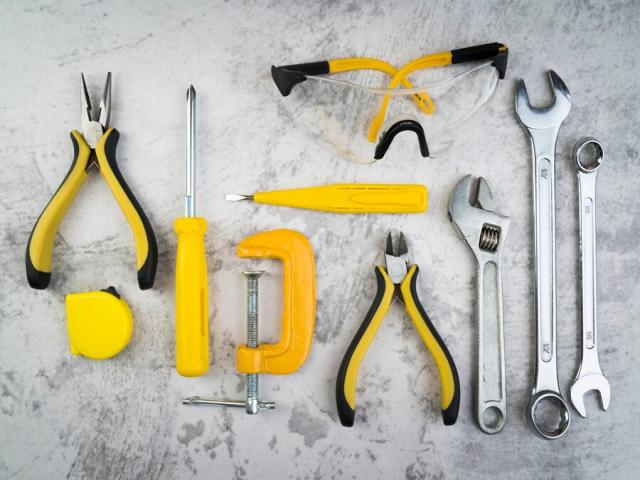Adjustable spanner: (449, 174, 510, 434)
Cutting pliers: (336, 233, 460, 427)
Needle-nose pliers: (25, 72, 158, 290)
Screwdriver: (174, 86, 209, 377), (226, 184, 428, 213)
Tape measure: (66, 287, 132, 359)
Wrench: (516, 70, 571, 439), (570, 138, 610, 417)
